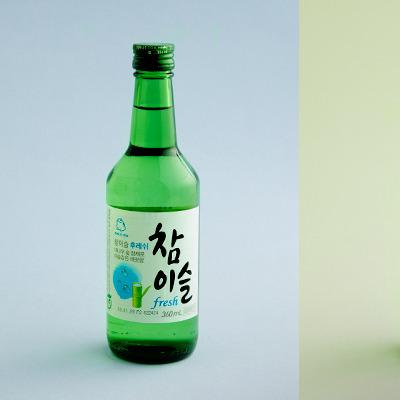soju: (103, 42, 202, 367)
